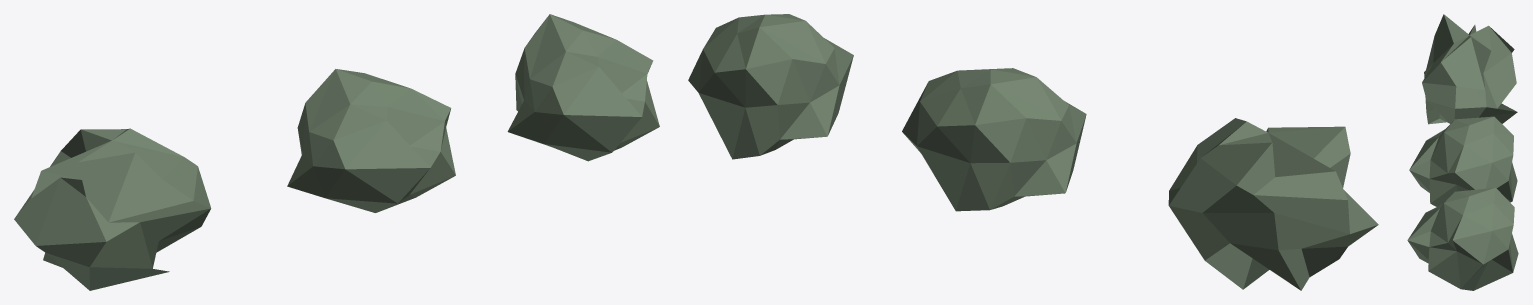
File: bushes_group_v2.fbx
3 renders of one model, left to right at view 1: azimuth 30°, elevation 25°; view 2: azimuth 150°, elevation 25°; view 3: azimuth 270°, elevation 25°, orthographic. The views are drawn at different scales.
Parts seen in each view (by area): view 1: green bushes v1, green bushes v2, green bushes v3; view 2: green bushes v1, green bushes v2, green bushes v3; view 3: green bushes v3, green bushes v1, green bushes v2.
Boxes of the visible parts, x1,y1,x2,y2 form: green bushes v1: (14, 128, 211, 290); green bushes v2: (287, 69, 455, 212); green bushes v3: (507, 14, 659, 161); green bushes v1: (1168, 118, 1378, 290); green bushes v2: (902, 68, 1086, 211); green bushes v3: (688, 14, 853, 159); green bushes v3: (1407, 187, 1518, 290); green bushes v1: (1422, 14, 1517, 124); green bushes v2: (1409, 116, 1517, 206).
Size of the model in its own units: 668 by 142 by 150.
Materials: 1 (1 with a texture image).
